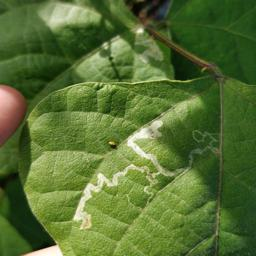liriomyza: (73, 116, 223, 232)
